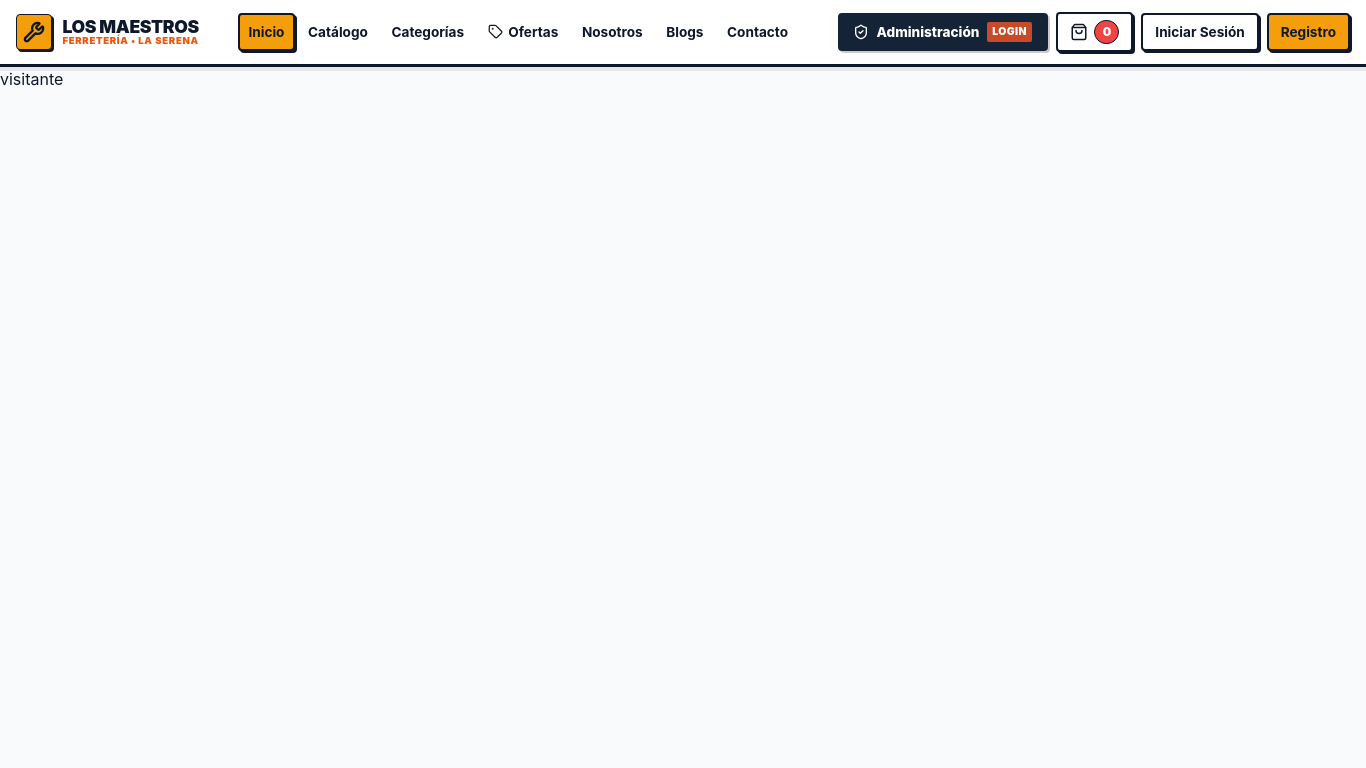
Test: Acceso administrativo y navegación por perfil › rechaza una cuenta de cliente sin iniciar una sesión desde el modal administrativo
Click the button with aria-label "Acceder a Administración".
click(943, 32)  # box [838,13,1048,51]
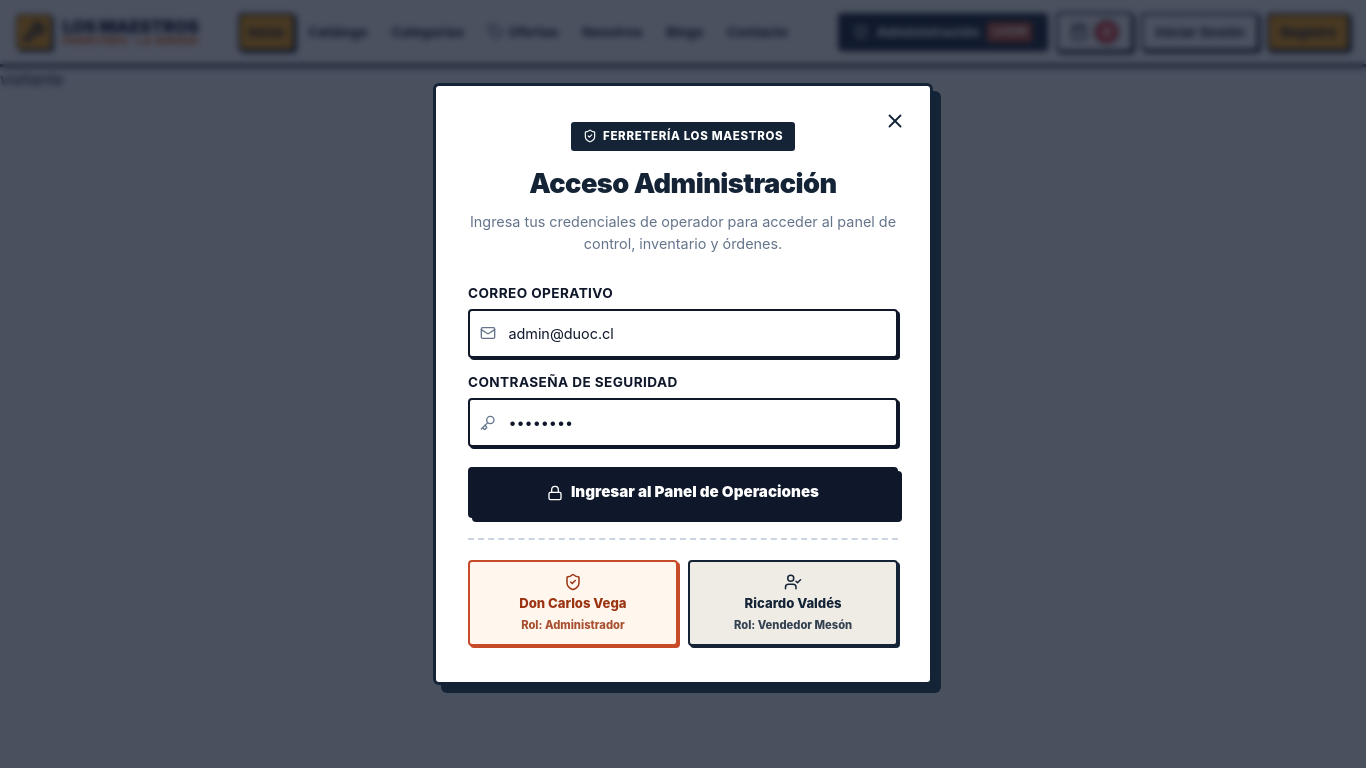
Type "cliente@gmail.com" into the field labelled "Correo Operativo".
click(683, 333); type("cliente@gmail.com")  # box [468,309,898,358]
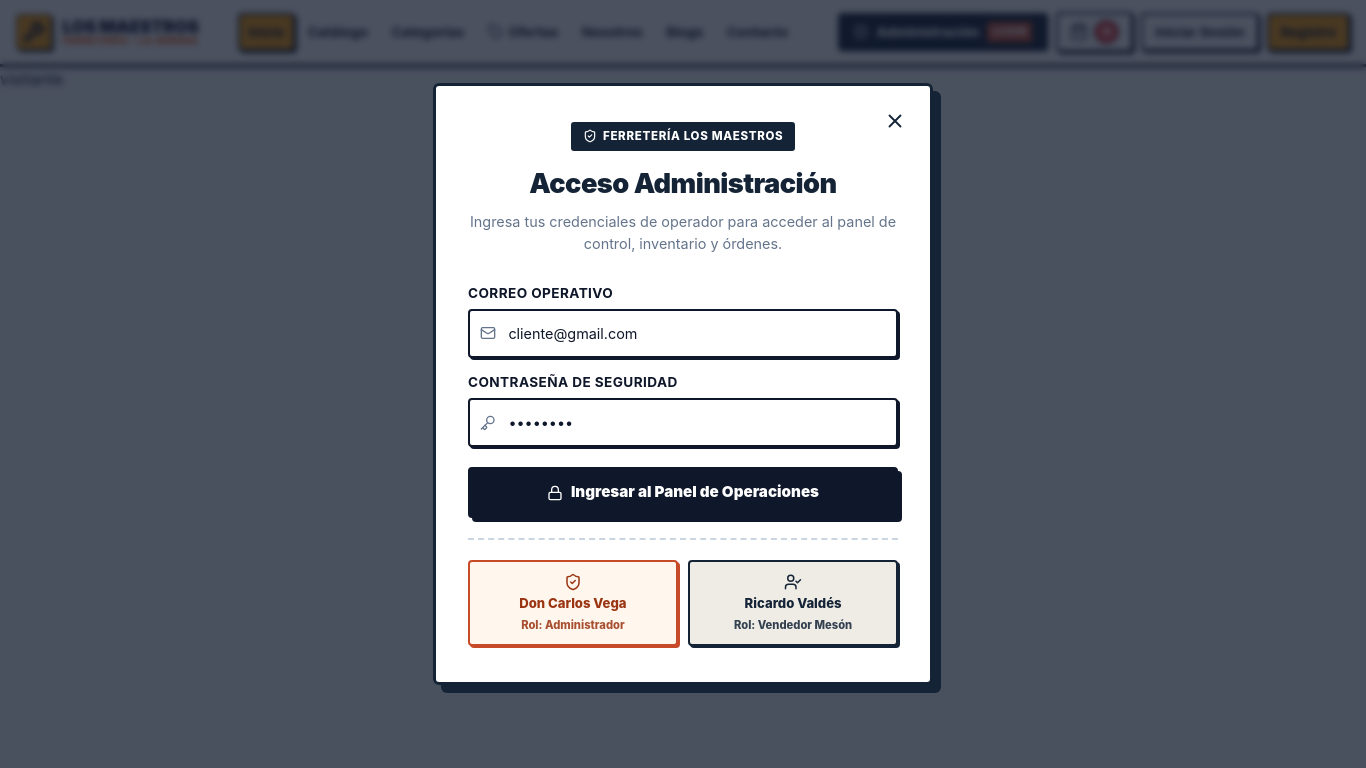
Type "clie123" into the password field labelled "Contraseña de Seguridad".
click(683, 423); type("clie123")  # box [468,398,898,447]
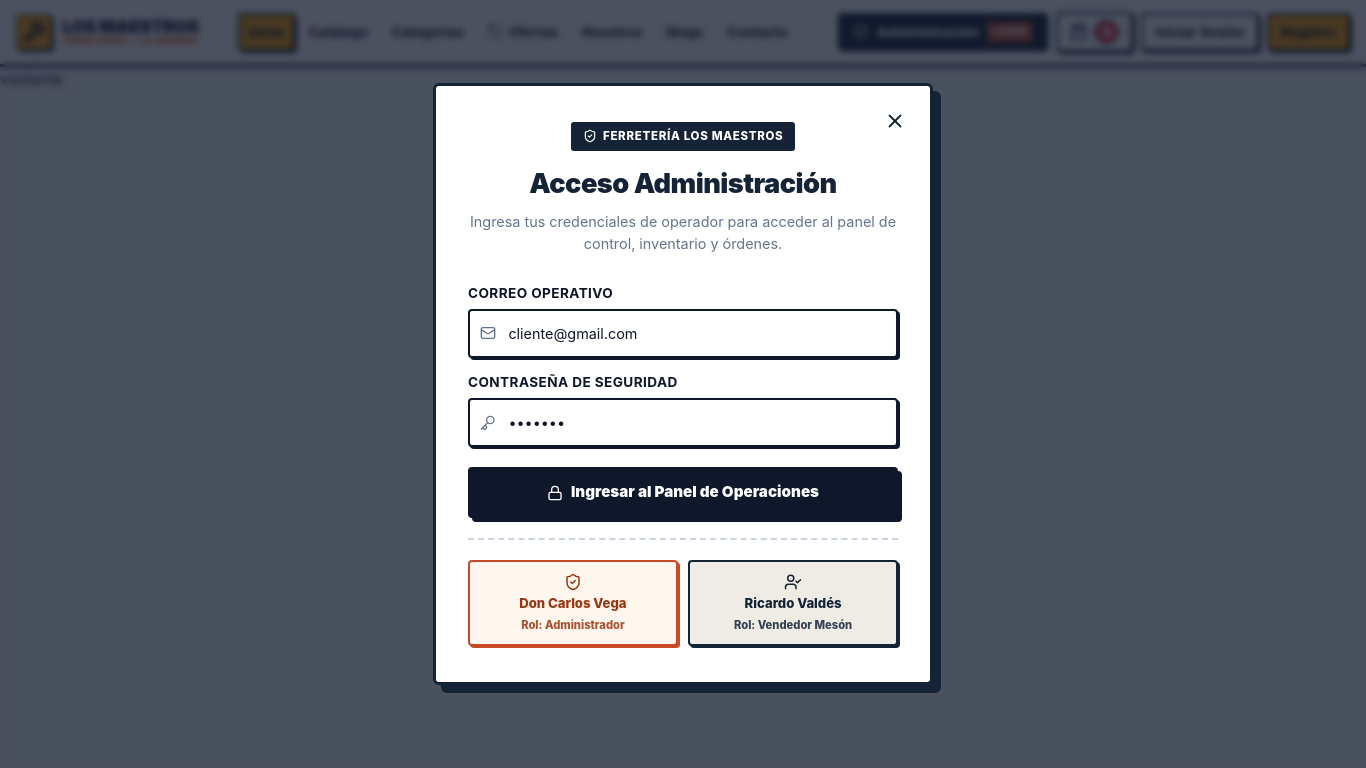
Click the button "Ingresar al Panel de Operaciones".
click(683, 493)  # box [468,467,898,518]
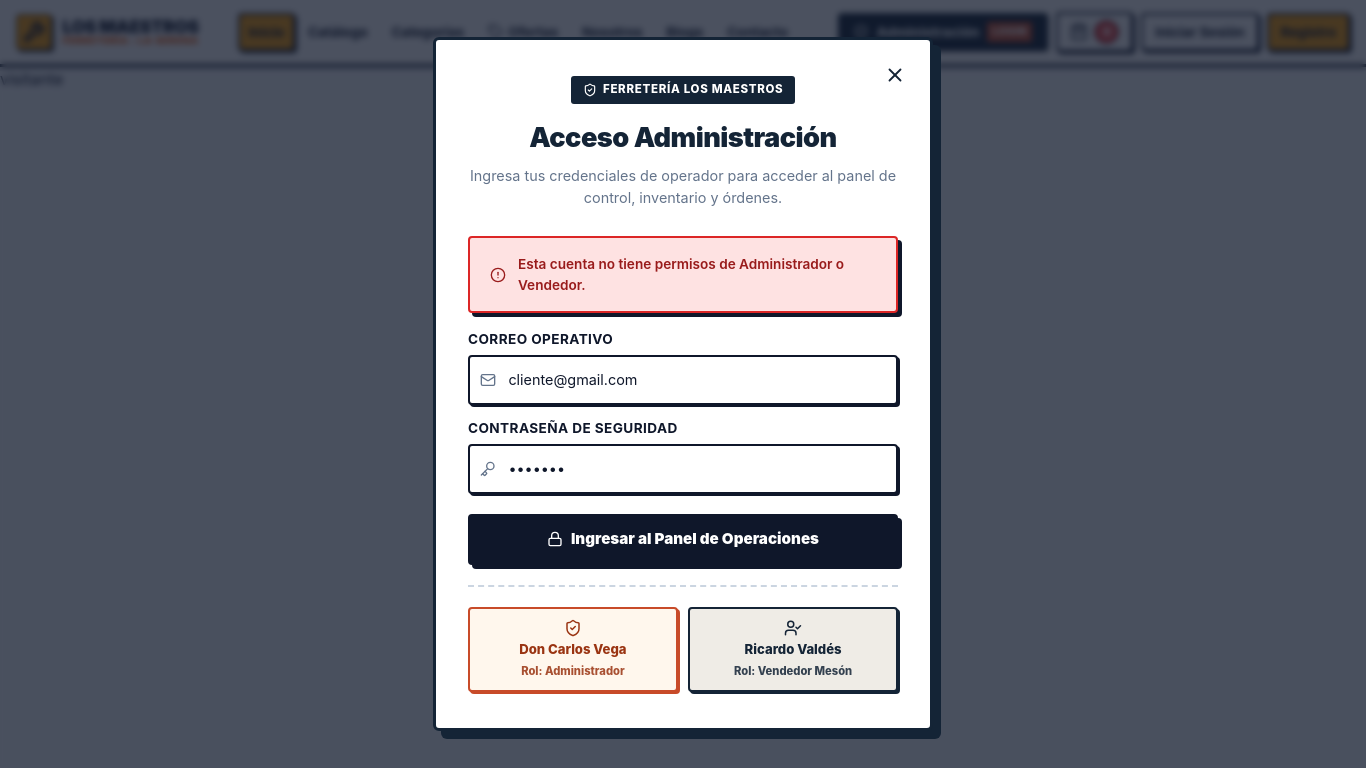
Check: the text with test id "active-session" reads "visitante", box [0,69,63,89]
Check: the text "Esta cuenta no tiene permisos de Administrador o Vendedor." is shown, box [518,254,876,295]
